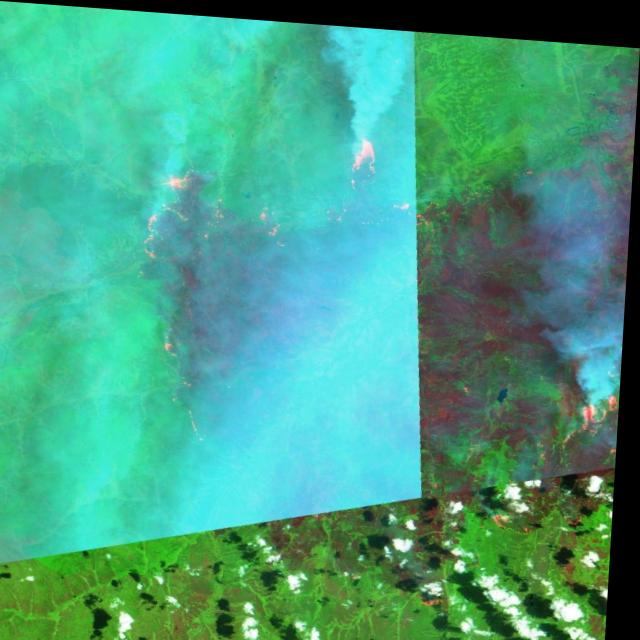fire: (125, 151, 232, 267), (336, 126, 408, 200), (563, 375, 624, 446)
